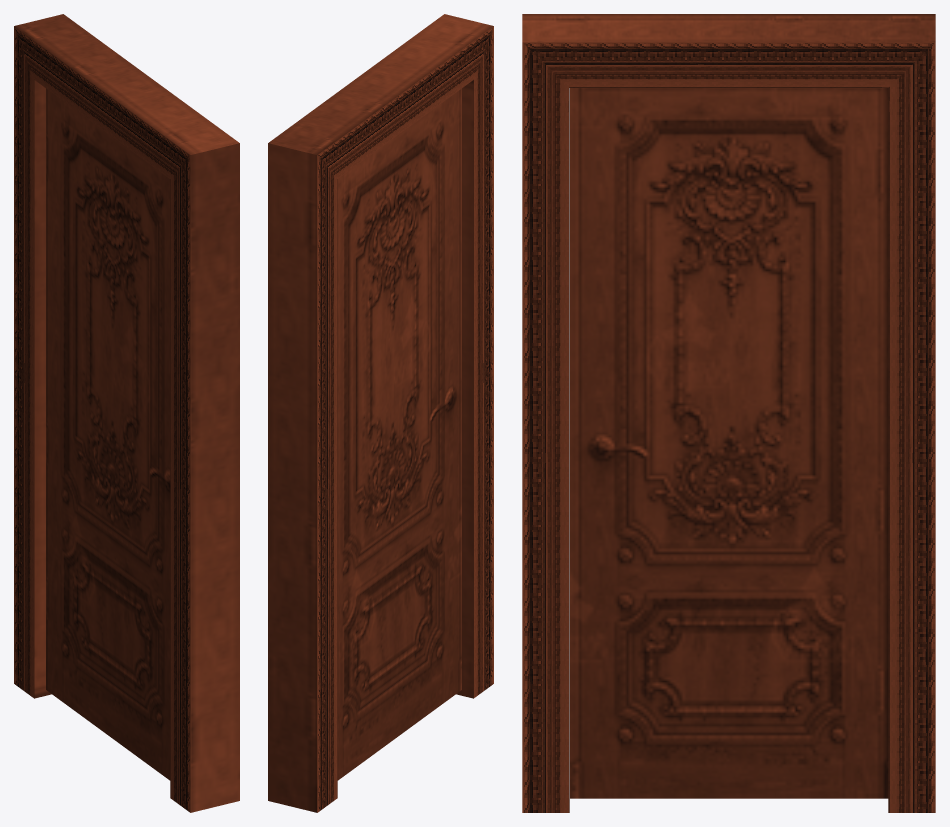
The model's file is door_2.fbx.
The picture shows the model from 3 angles, left to right: view 1: azimuth 30°, elevation 25°; view 2: azimuth 150°, elevation 25°; view 3: azimuth 270°, elevation 25°; orthographic projection. The views are drawn at different scales.
Parts seen in each view (by area): view 1: Cube.012, Cube.010; view 2: Cube.012, Cube.010; view 3: Cube.010, Cube.012.
Part boxes in pixels (bbox=[...]): Cube.012: bbox=[14, 14, 239, 812]; Cube.010: bbox=[46, 88, 170, 780]; Cube.012: bbox=[268, 14, 493, 812]; Cube.010: bbox=[337, 88, 461, 780]; Cube.010: bbox=[570, 88, 888, 798]; Cube.012: bbox=[522, 14, 935, 812].
Size of the model in its own units: 8.71 by 111 by 53.87.
